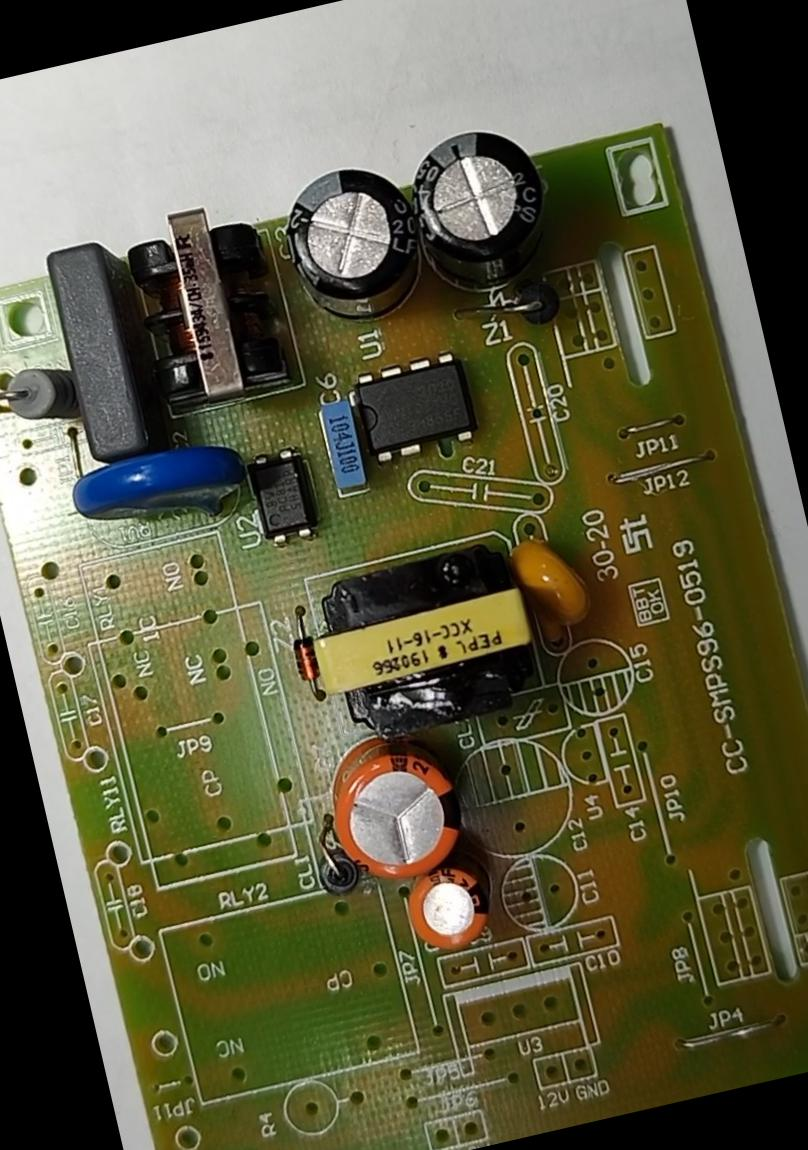Cap1: (316, 724, 472, 890)
Cap2: (398, 859, 496, 960)
Cap3: (272, 154, 434, 336)
Cap4: (398, 111, 564, 306)
MOSFET: (346, 346, 482, 468)
Mov: (62, 428, 254, 540)
Resistor: (0, 354, 82, 443)
Transformer: (294, 534, 554, 750), (105, 183, 303, 424)
